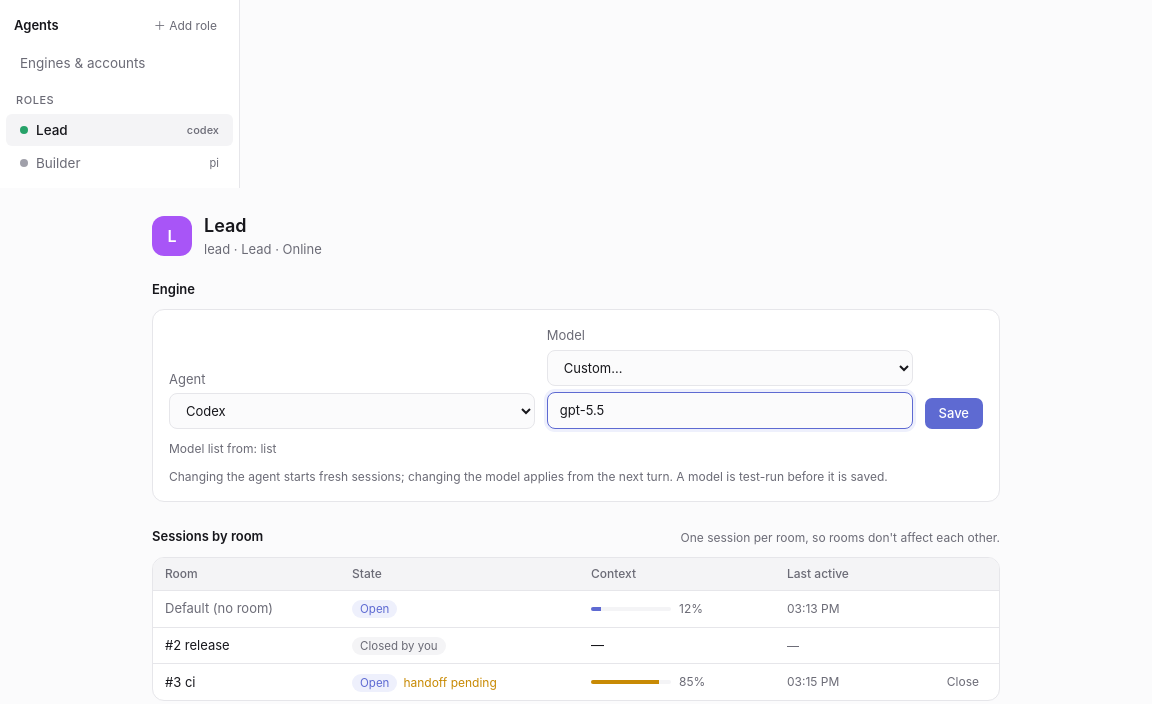
Agents › role page: sessions per room, close, engine change with model test failure surfaced
Check: the heading "Lead" is shown, box [204,215,247,236]
Check: the text "Default (no room)" is shown, box [165,600,273,616]
Click the button "Close".
click(963, 682)  # box [939,672,987,692]
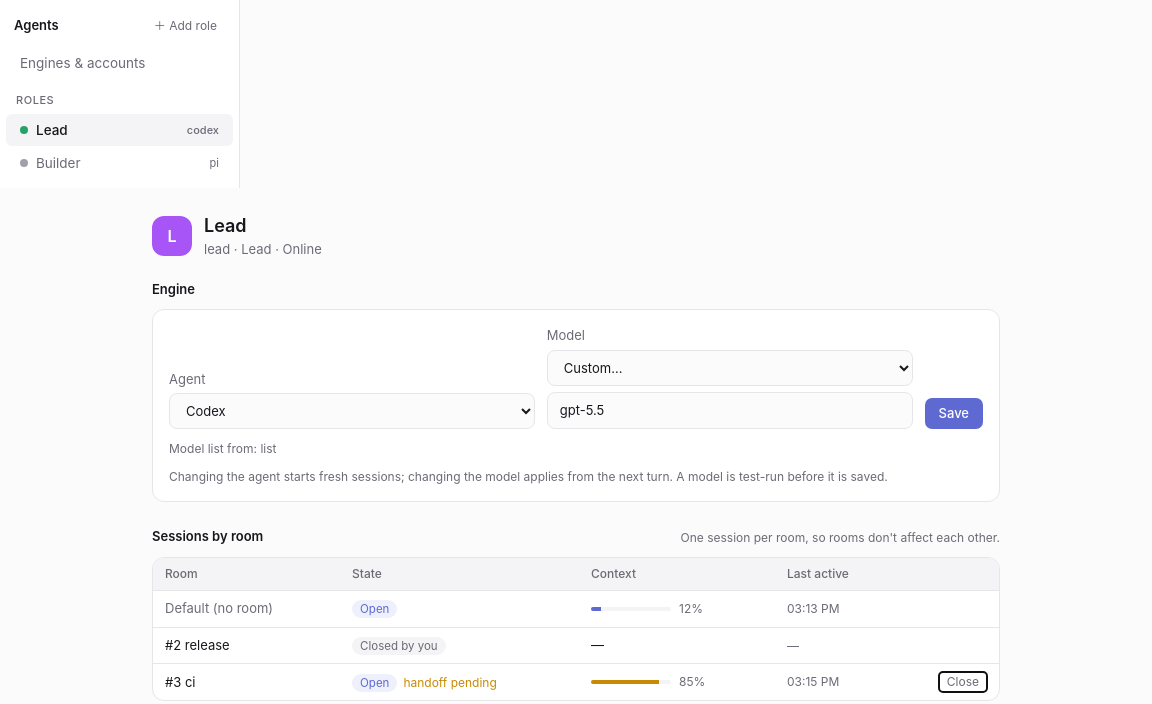
Select "Custom…" in the dropdown labelled "Model" at coordinates (730, 368), box [547,350,913,386]
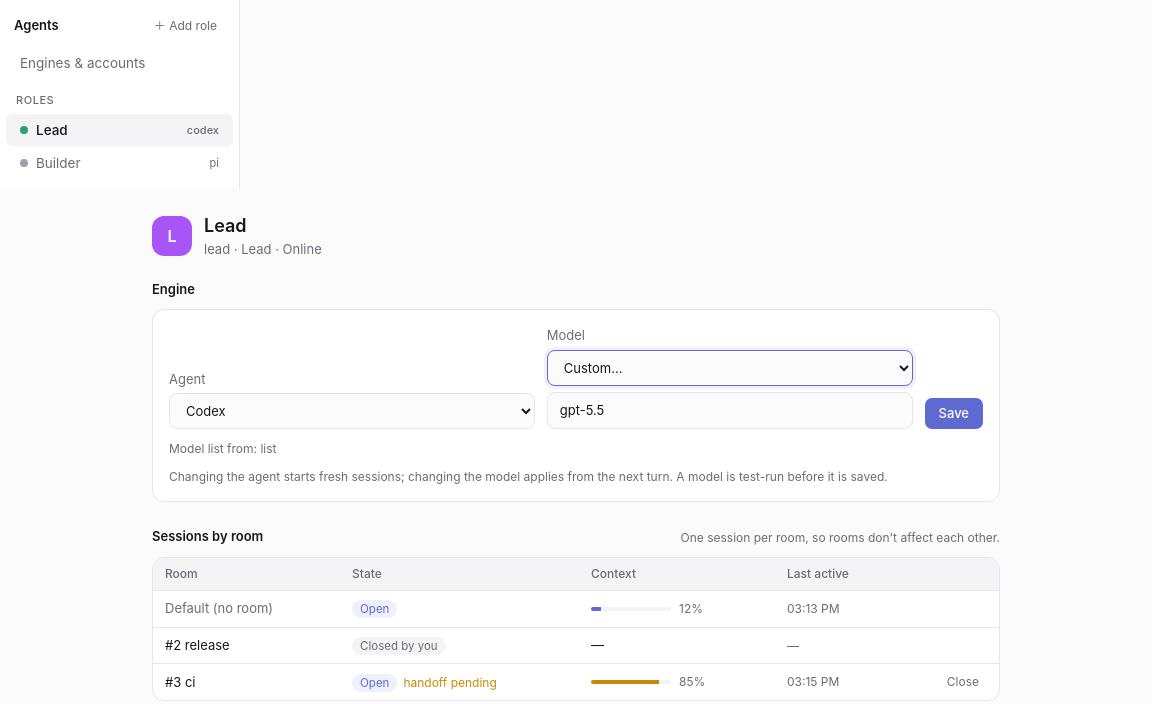
Replace the text in the field named "Model ID" with "bad" at coordinates (730, 411), box [547,392,913,429]
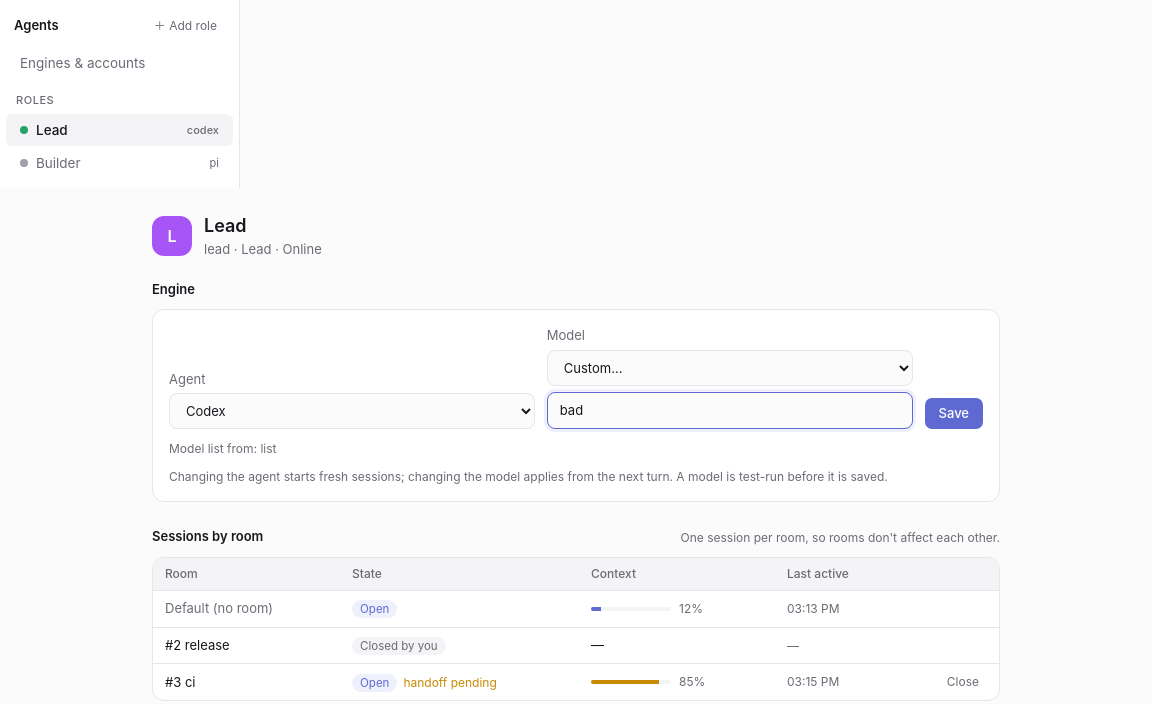
Click the button "Save".
click(954, 414)  # box [925,398,983,429]
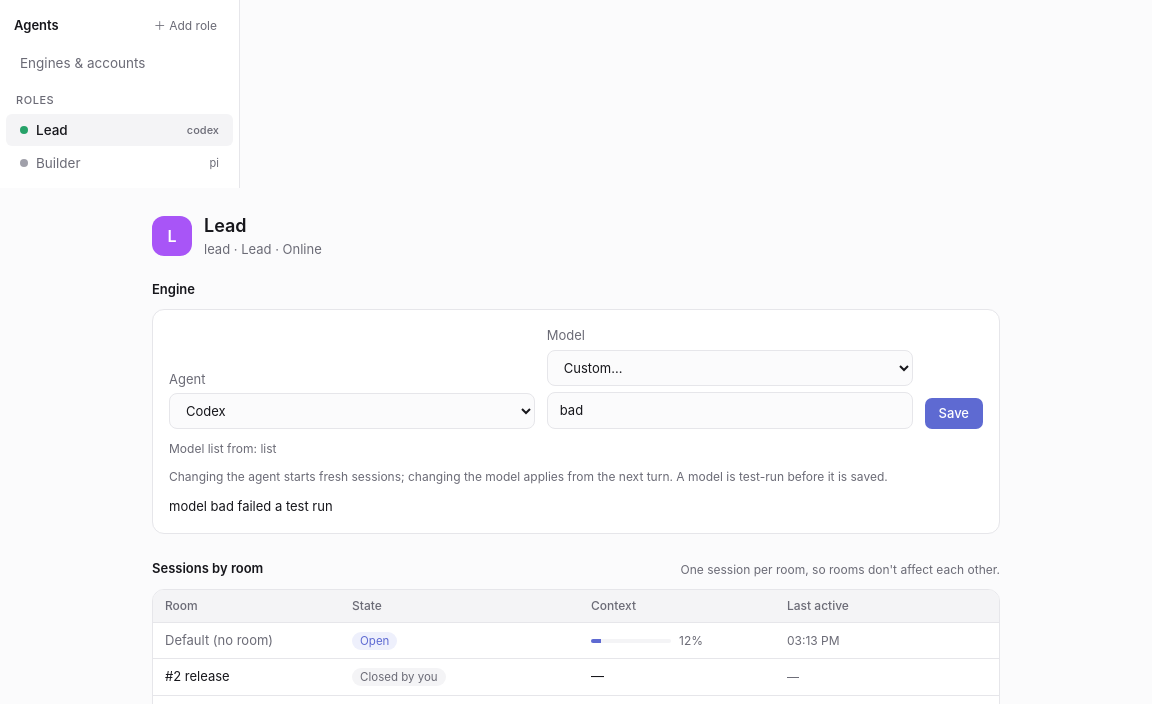
Check: the message reads "model bad failed a test run", box [169,498,333,514]
Select "gpt-5.6" in the dropdown labelled "Model" at coordinates (730, 368), box [547,350,913,386]
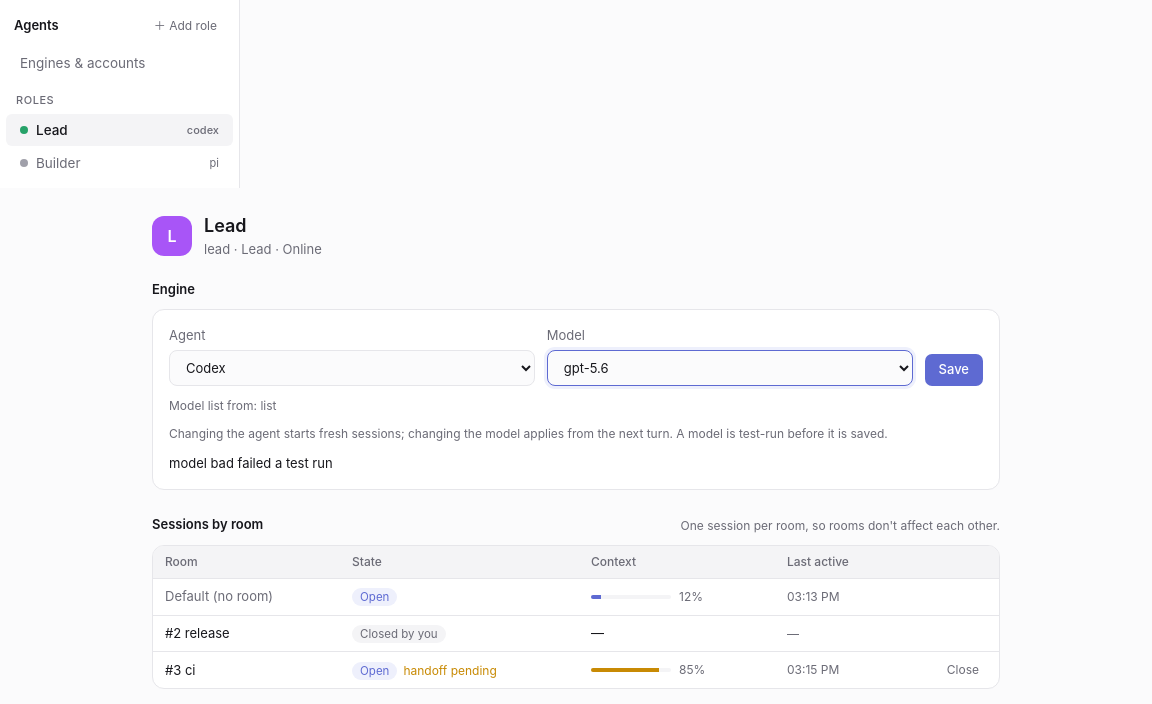
Click the button "Save".
click(954, 370)  # box [925,354,983,386]
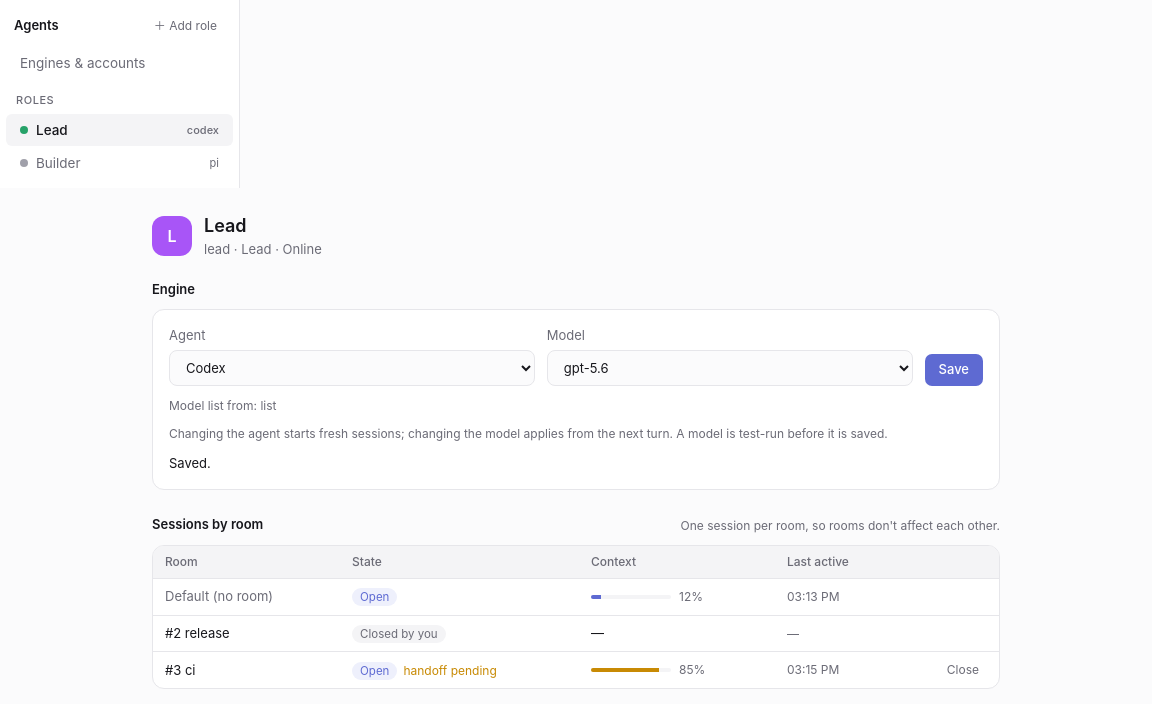
Check: the text "Saved." is shown, box [169,455,211,471]
